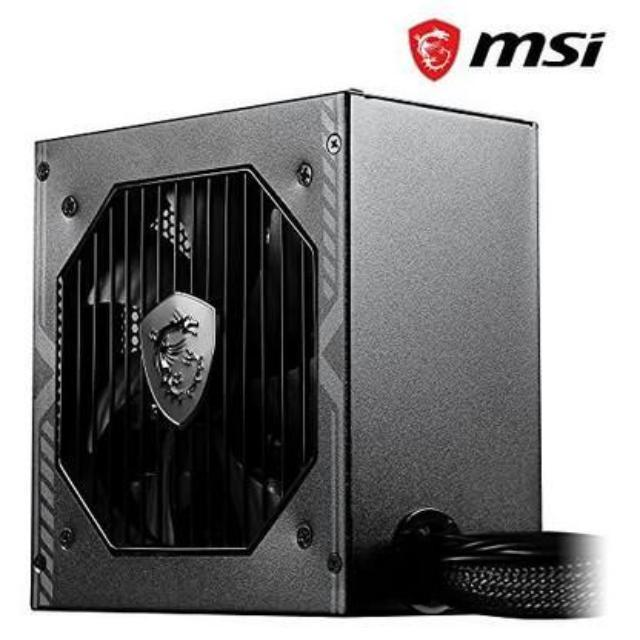PSU: (22, 92, 552, 640)
